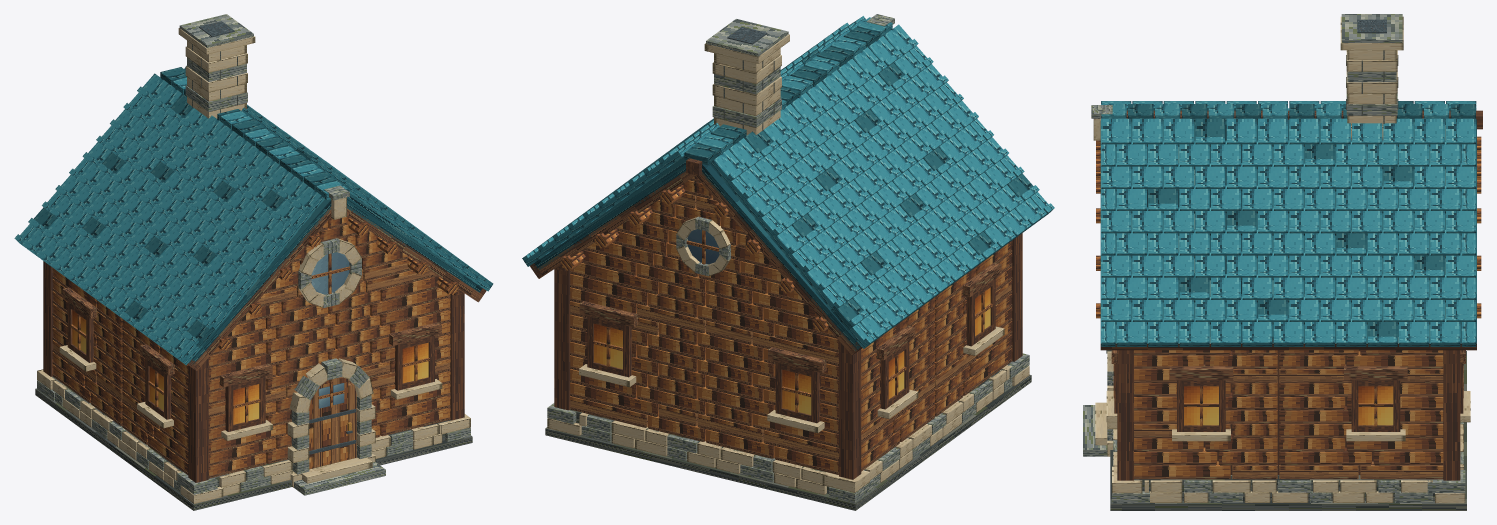
Rendered from seed.glb.
3 renders of one model, left to right at view 1: azimuth 30°, elevation 25°; view 2: azimuth 150°, elevation 25°; view 3: azimuth 270°, elevation 25°, orthographic. The views are drawn at different scales.
Visible parts, largest first — view 1: teal_geometry, teal_light_geometry, oak_geometry, oak_light_geometry, wood_geometry, stone_warm_geometry, stone_light_geometry, wood_dark_geometry, teal_dark_geometry, wood_light_geometry, stone_dark_geometry, window_glow_geometry (+2 smaller); view 2: teal_geometry, oak_geometry, teal_light_geometry, oak_light_geometry, wood_geometry, stone_warm_geometry, wood_dark_geometry, teal_dark_geometry, stone_light_geometry, wood_light_geometry, stone_dark_geometry, window_glow_geometry (+1 smaller); view 3: teal_geometry, teal_light_geometry, oak_geometry, oak_light_geometry, stone_warm_geometry, wood_geometry, teal_dark_geometry, wood_dark_geometry, stone_light_geometry, stone_dark_geometry, wood_light_geometry, window_glow_geometry (+1 smaller).
Part boxes in pixels (left/top/right/bottom): teal_geometry: left=14, top=65, right=491, bottom=364; teal_light_geometry: left=21, top=73, right=493, bottom=364; oak_geometry: left=53, top=216, right=450, bottom=475; oak_light_geometry: left=52, top=218, right=459, bottom=469; wood_geometry: left=52, top=206, right=482, bottom=478; stone_warm_geometry: left=37, top=28, right=470, bottom=503; stone_light_geometry: left=37, top=14, right=470, bottom=495; wood_dark_geometry: left=43, top=261, right=486, bottom=482; teal_dark_geometry: left=34, top=67, right=482, bottom=365; wood_light_geometry: left=53, top=259, right=450, bottom=467; stone_dark_geometry: left=35, top=44, right=472, bottom=510; window_glow_geometry: left=72, top=310, right=428, bottom=424; teal_geometry: left=524, top=16, right=1048, bottom=348; oak_geometry: left=570, top=176, right=1011, bottom=468; teal_light_geometry: left=522, top=34, right=1054, bottom=342; oak_light_geometry: left=560, top=180, right=1012, bottom=471; wood_geometry: left=538, top=171, right=1012, bottom=474; stone_warm_geometry: left=547, top=34, right=1029, bottom=494; wood_dark_geometry: left=530, top=158, right=1022, bottom=479; teal_dark_geometry: left=532, top=27, right=1033, bottom=350; stone_light_geometry: left=547, top=14, right=1029, bottom=503; wood_light_geometry: left=570, top=193, right=1011, bottom=458; stone_dark_geometry: left=545, top=60, right=1031, bottom=510; window_glow_geometry: left=594, top=287, right=990, bottom=414; teal_geometry: left=1101, top=101, right=1476, bottom=346; teal_light_geometry: left=1101, top=101, right=1476, bottom=346; oak_geometry: left=1113, top=350, right=1463, bottom=478; oak_light_geometry: left=1096, top=136, right=1481, bottom=469; stone_warm_geometry: left=1093, top=16, right=1470, bottom=503; wood_geometry: left=1111, top=350, right=1465, bottom=479; teal_dark_geometry: left=1100, top=101, right=1476, bottom=346; wood_dark_geometry: left=1100, top=110, right=1482, bottom=480; stone_light_geometry: left=1083, top=14, right=1465, bottom=503; stone_dark_geometry: left=1110, top=50, right=1466, bottom=510; wood_light_geometry: left=1134, top=369, right=1443, bottom=478; window_glow_geometry: left=1184, top=386, right=1393, bottom=425.
Size of the model in its own units: 5.36 by 5.94 by 5.27.
Materials: 15 (15 with a texture image).
